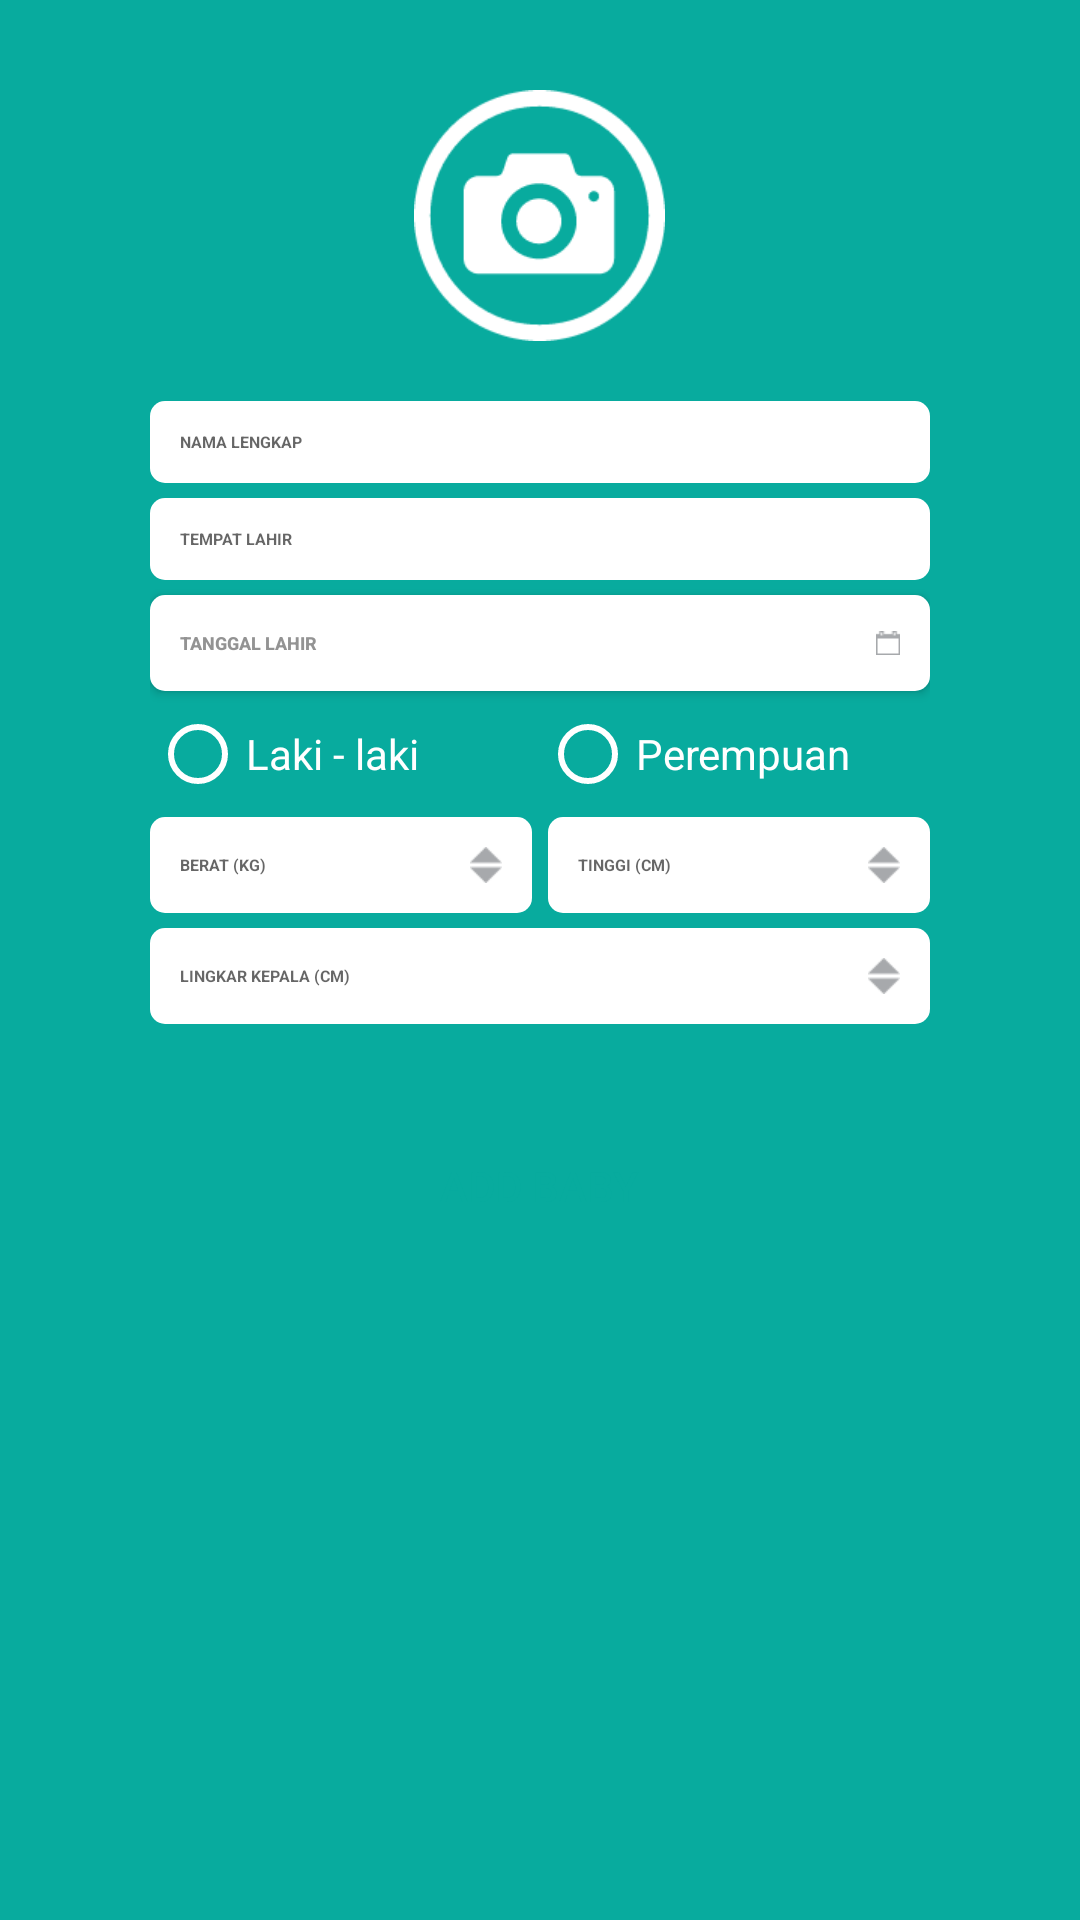

Where to tap for icons on this 1080px×1920px app screen, as point (x, y):
camera: point (539, 215)
